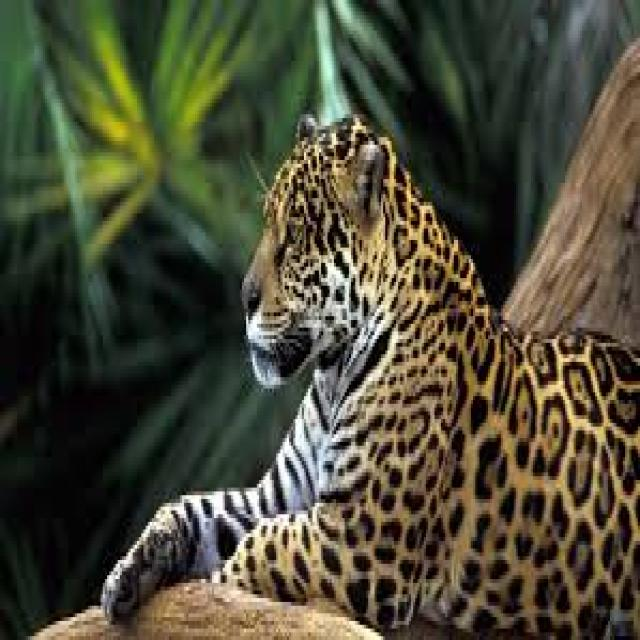Jaguar: (100, 114, 640, 639)
